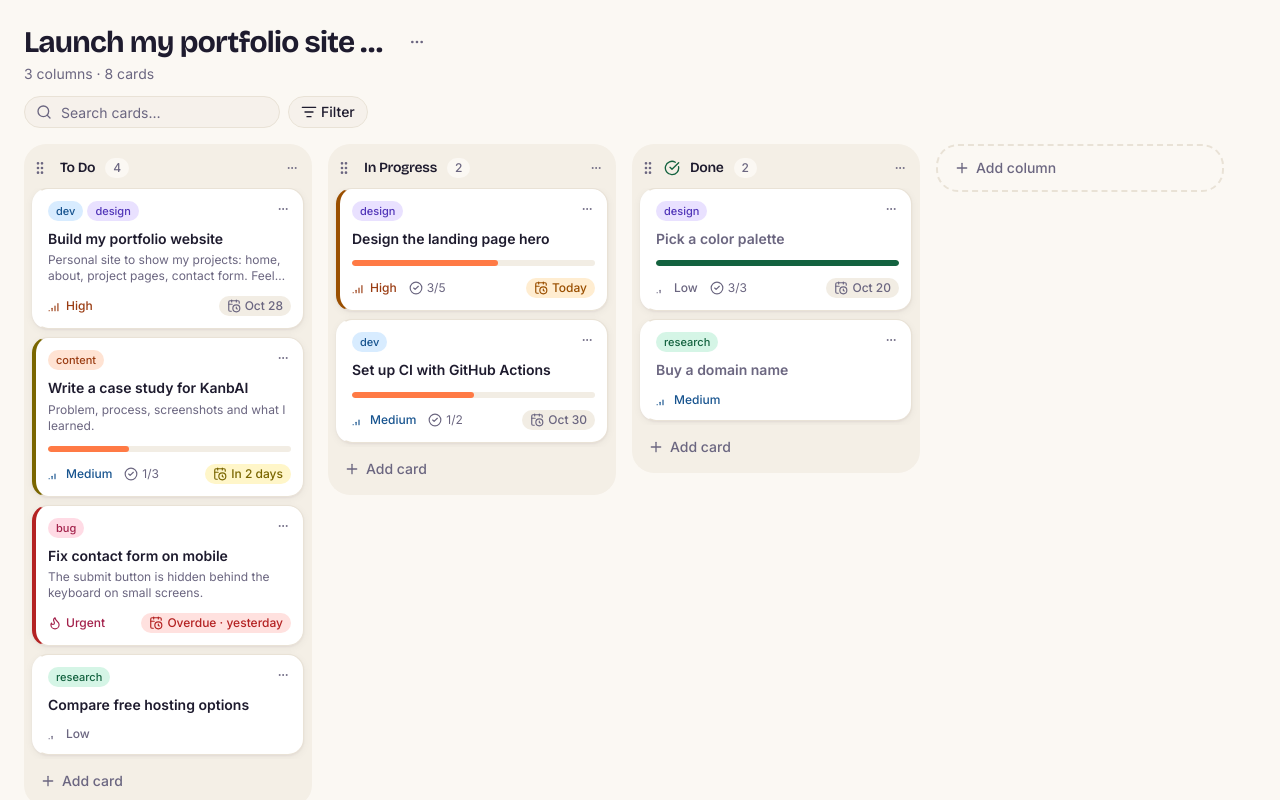
Scenario: card labels › keeps the old name when a rename is blank or taken
Click the heading "Buy a domain name": (722, 370) x1=656 y1=361 x2=788 y2=378
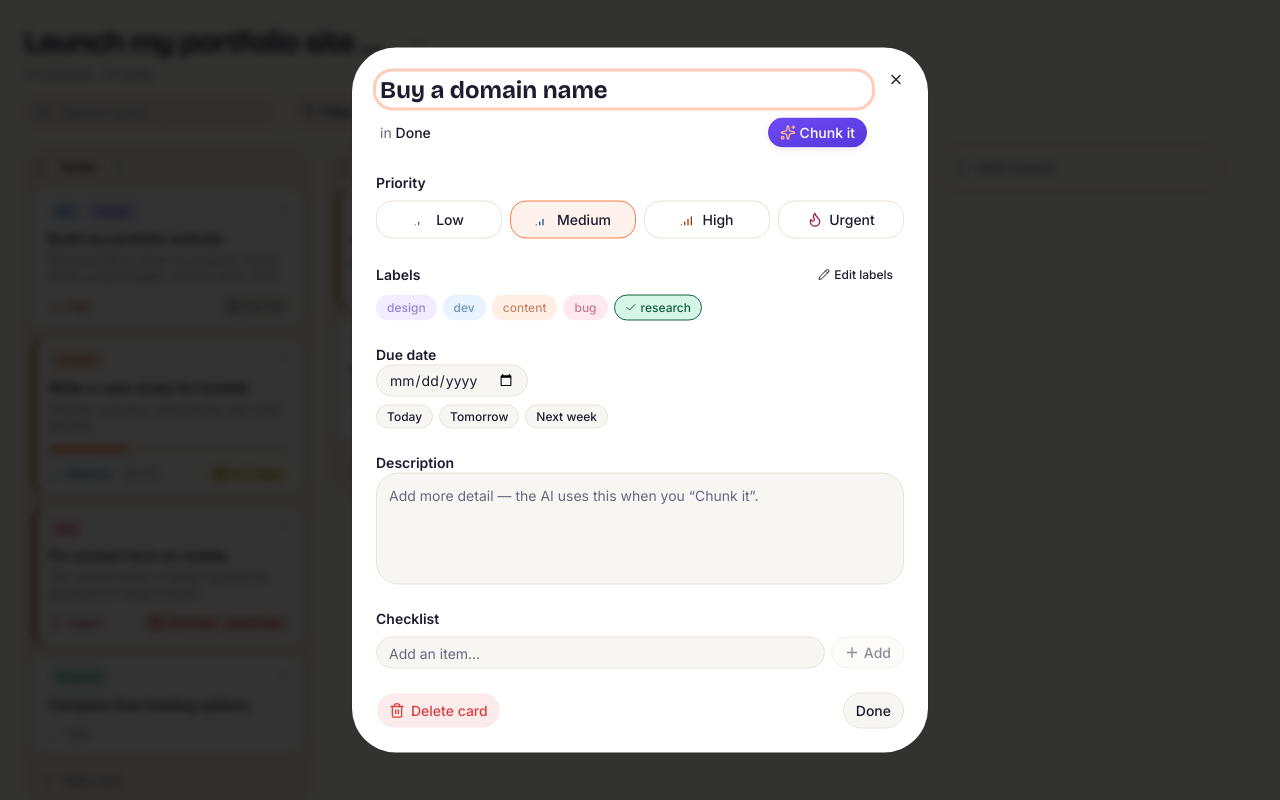
Click the button "Edit labels": (856, 274) x1=807 y1=262 x2=904 y2=286
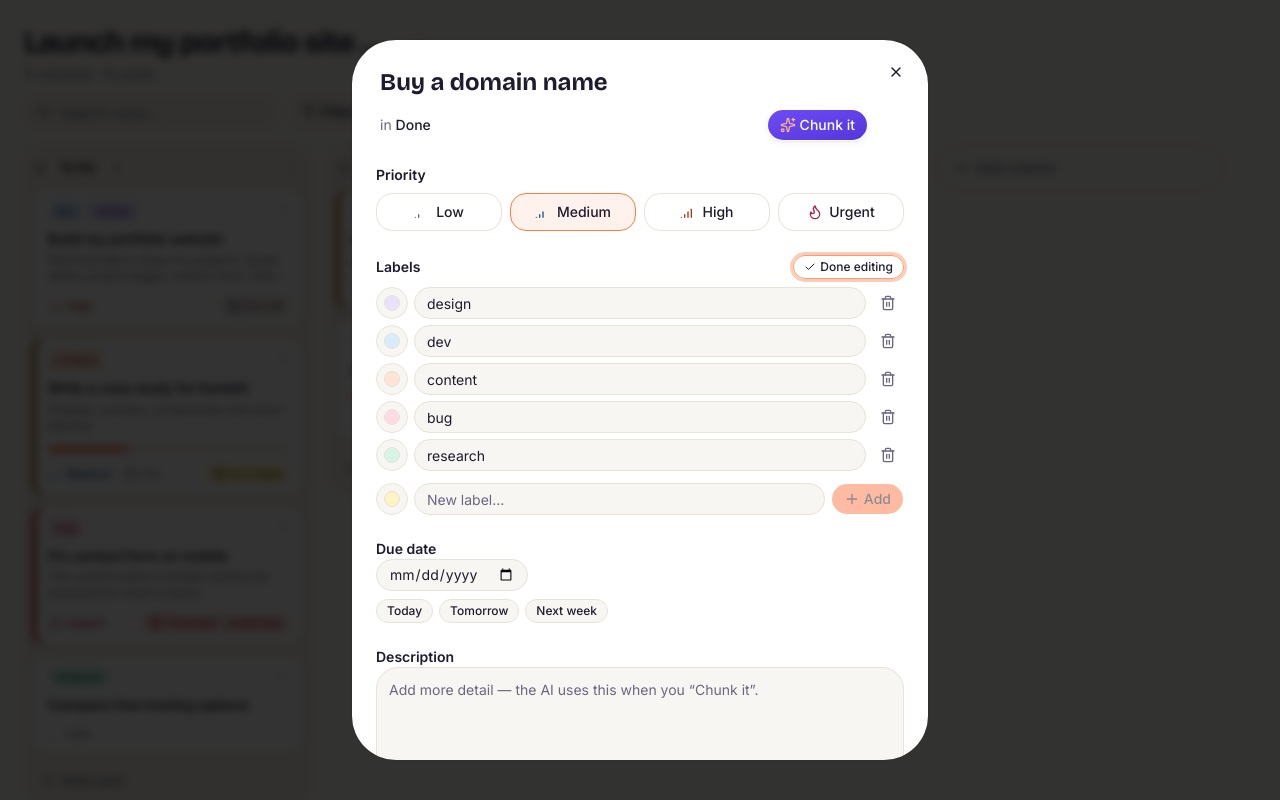
Replace the text in the field named "Name of label “research”" with "bug": (640, 455) x1=414 y1=439 x2=866 y2=471
Then press Enter
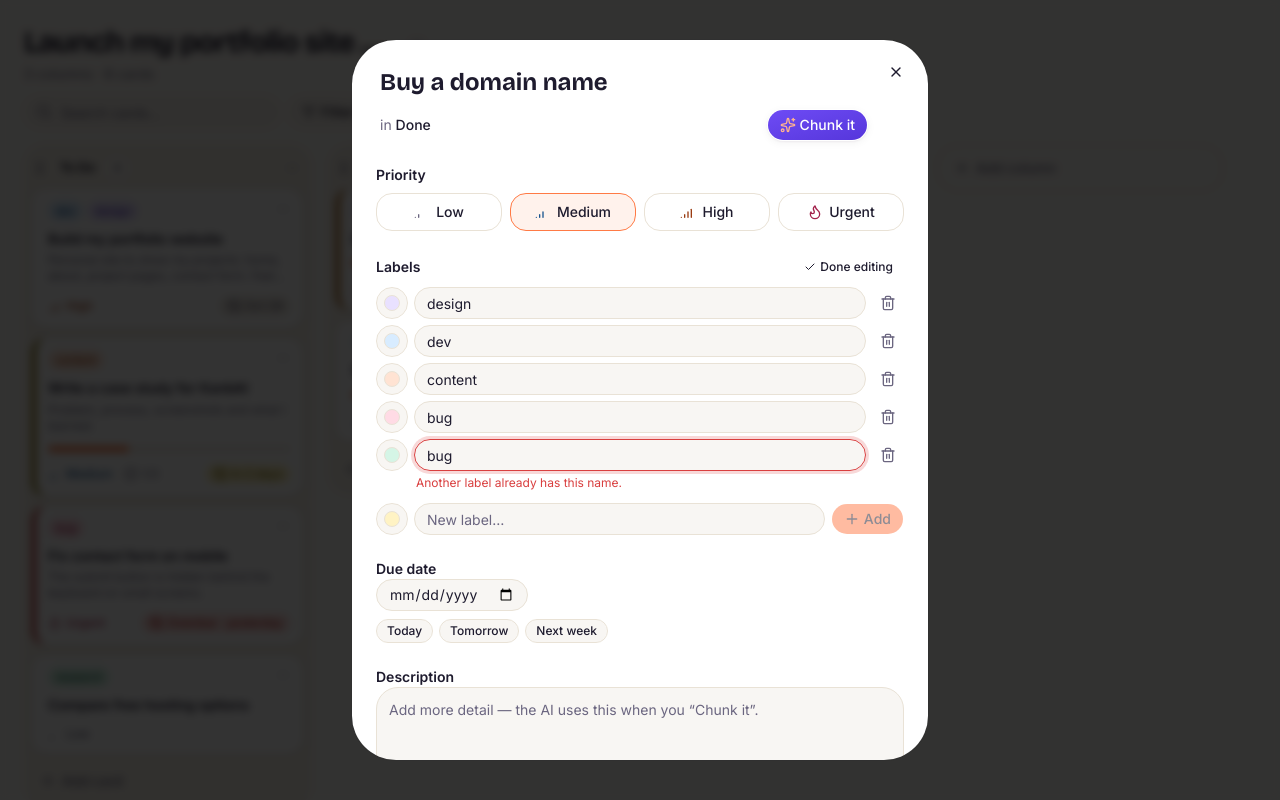
Expected: the text "Another label already has this name." is shown, x1=416 y1=475 x2=622 y2=490
Clear the field named "Name of label “research”": (640, 455) x1=414 y1=439 x2=866 y2=471
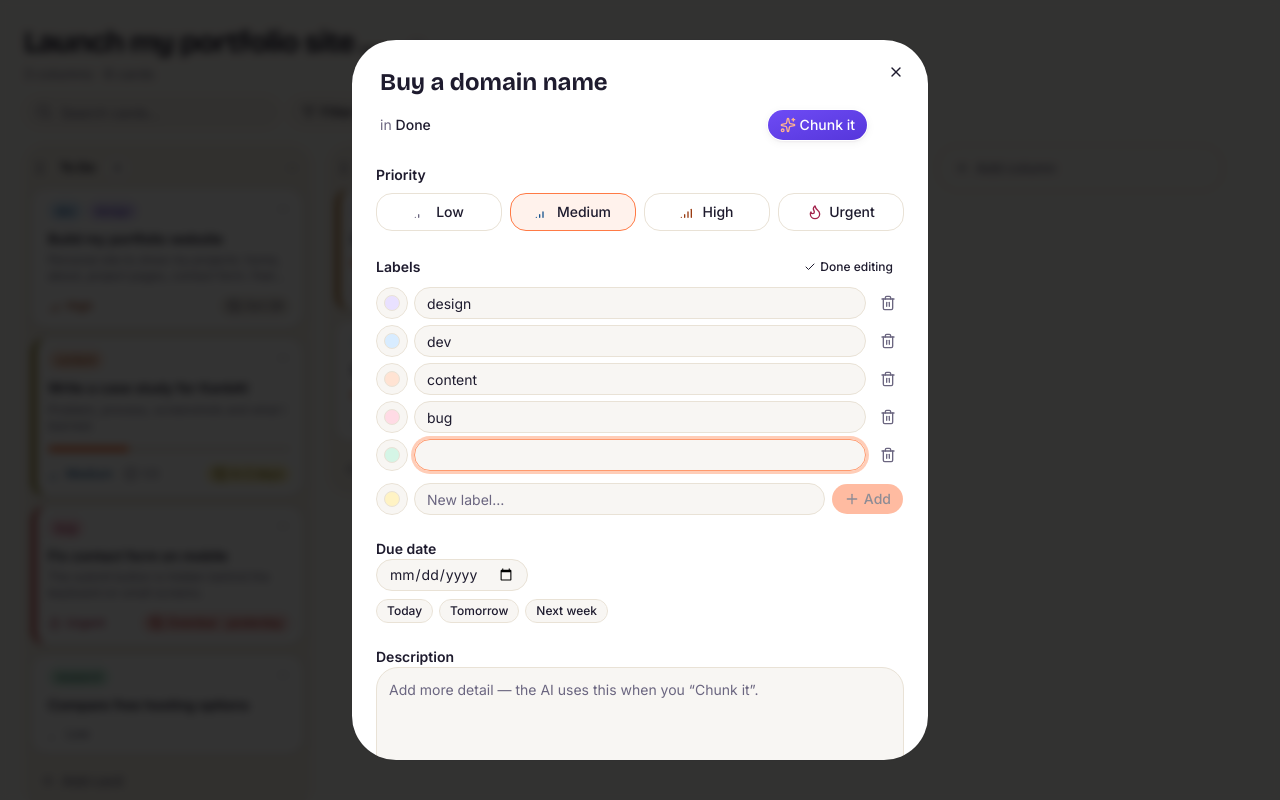
Press Tab
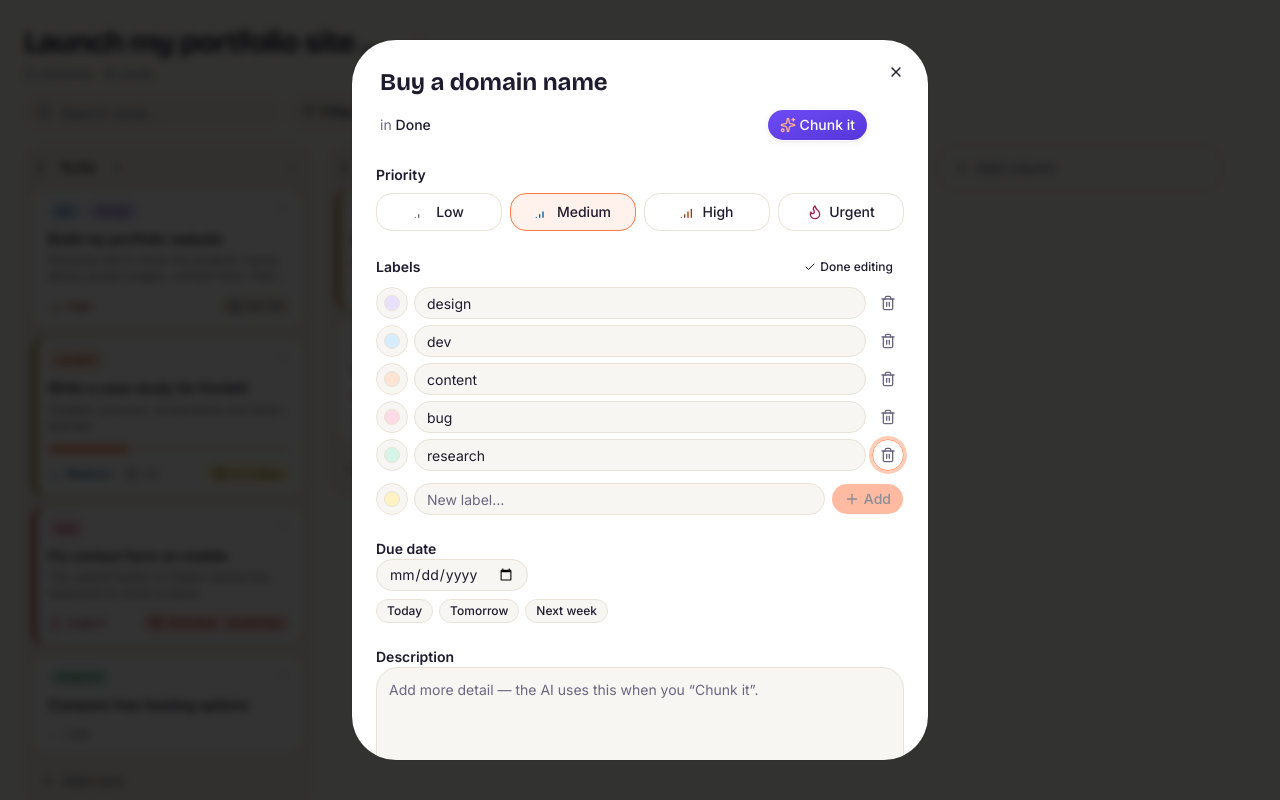
Expected: the field named "Name of label “research”" holds "research", x1=414 y1=439 x2=866 y2=471
